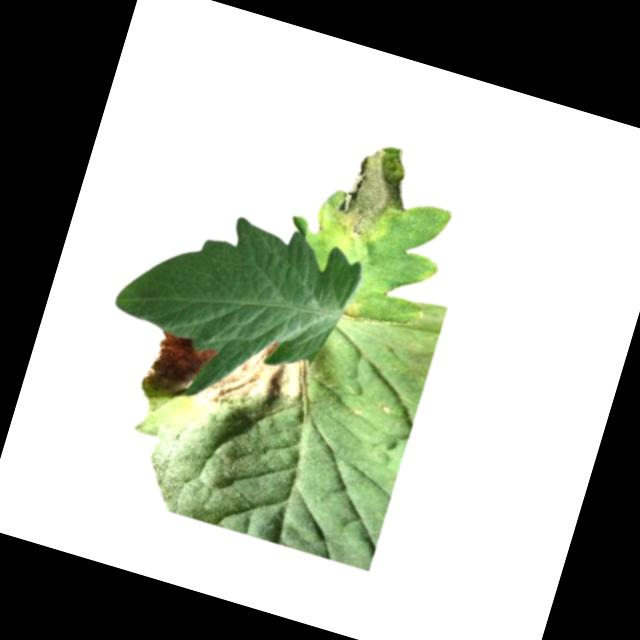Late_blight: (197, 324, 317, 430), (323, 135, 418, 247), (137, 326, 221, 411)
healthy: (110, 190, 368, 384)
